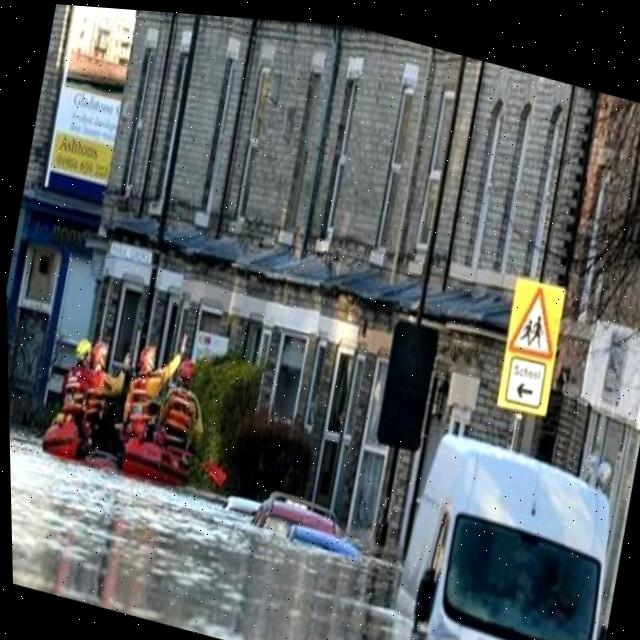rescuer: (110, 316, 195, 457), (37, 324, 120, 467), (65, 321, 141, 450), (147, 341, 221, 470)
